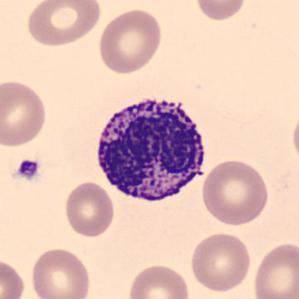Basophil: (89, 89, 213, 208)
Platelets: (16, 157, 41, 182)
RBC: (199, 156, 271, 228), (96, 6, 164, 76), (188, 230, 253, 293), (24, 0, 104, 49), (28, 245, 94, 299), (0, 78, 49, 150), (62, 180, 116, 239), (250, 240, 298, 299), (125, 261, 192, 299), (192, 0, 248, 22), (0, 256, 27, 299), (289, 105, 299, 167)
